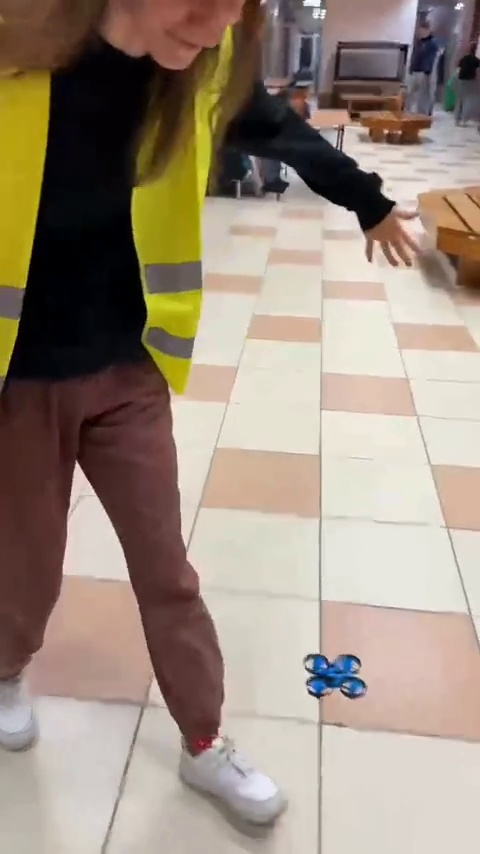drone: (304, 650, 372, 700)
no vest: (408, 27, 442, 125)
vest: (0, 0, 253, 808)
